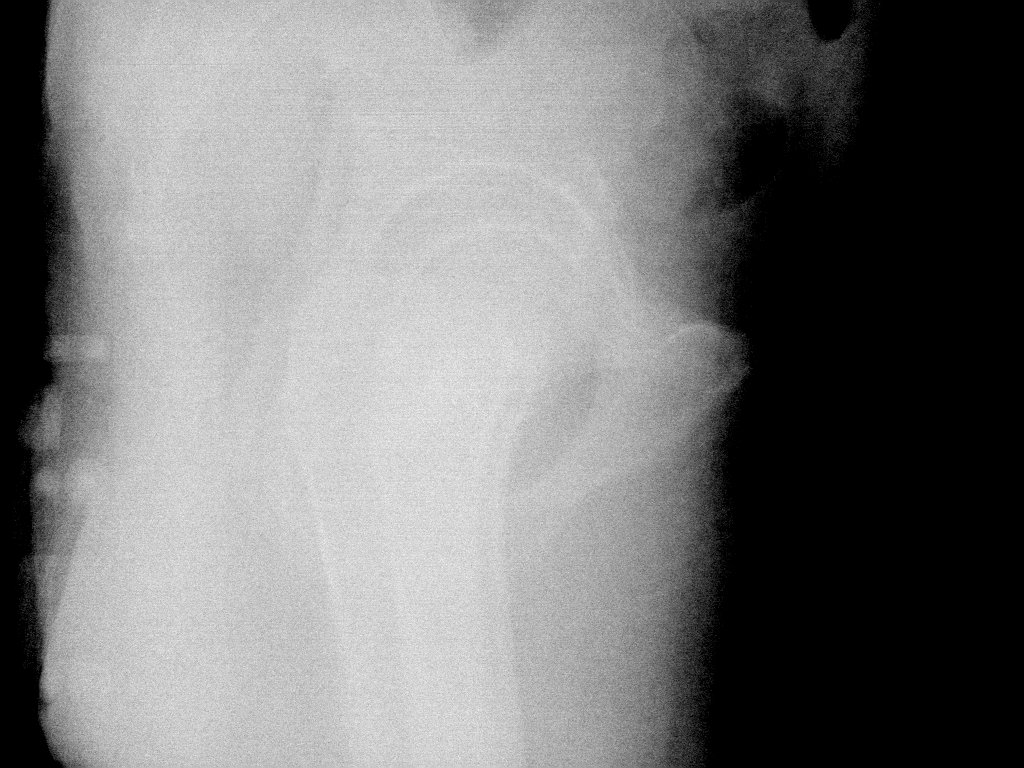ok: (795, 95, 889, 178)
